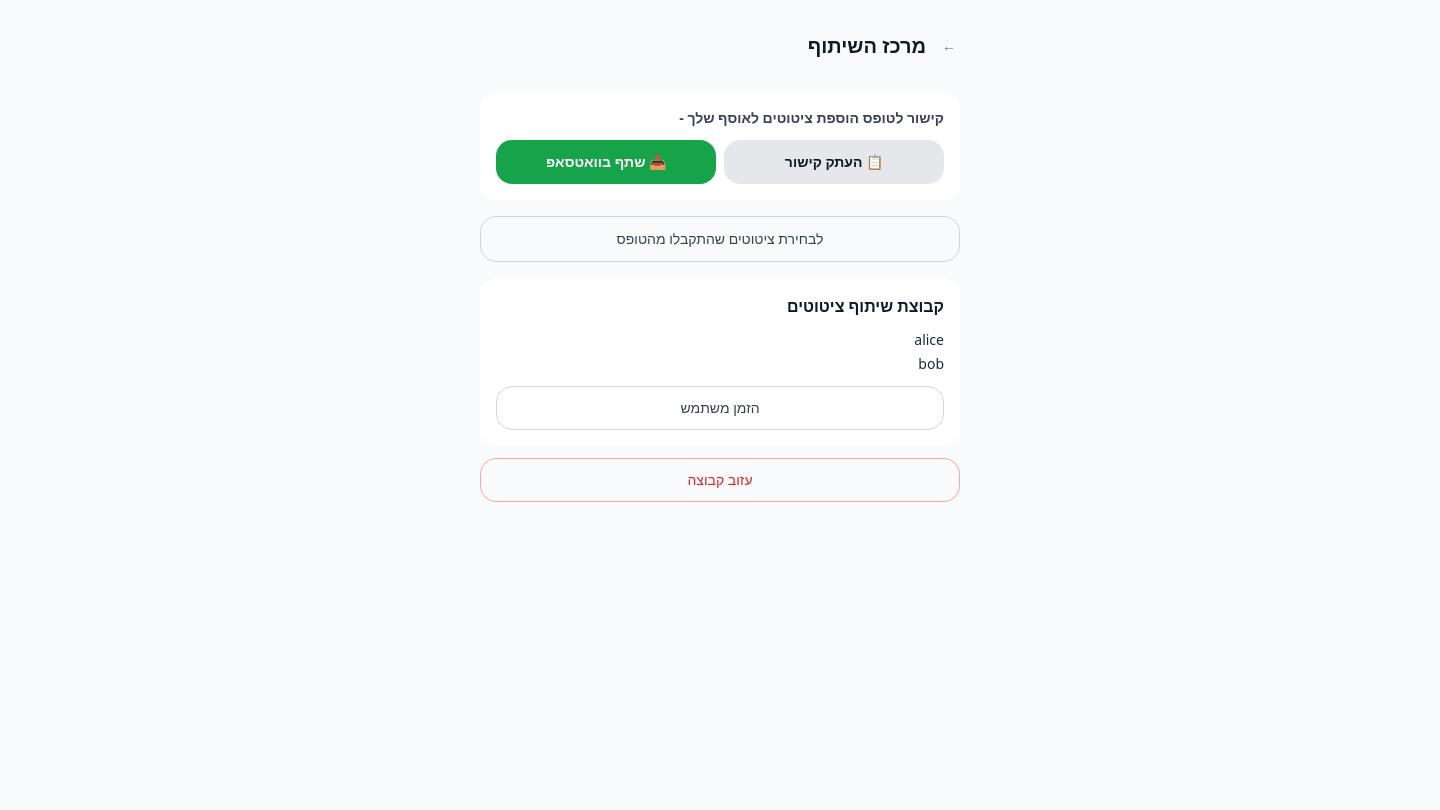
Test case: SharingCenterScreen — leave group › shows ConfirmDialog when "עזוב קבוצה" is clicked
Click the button "עזוב קבוצה".
click(720, 480)  # box [480,458,960,502]
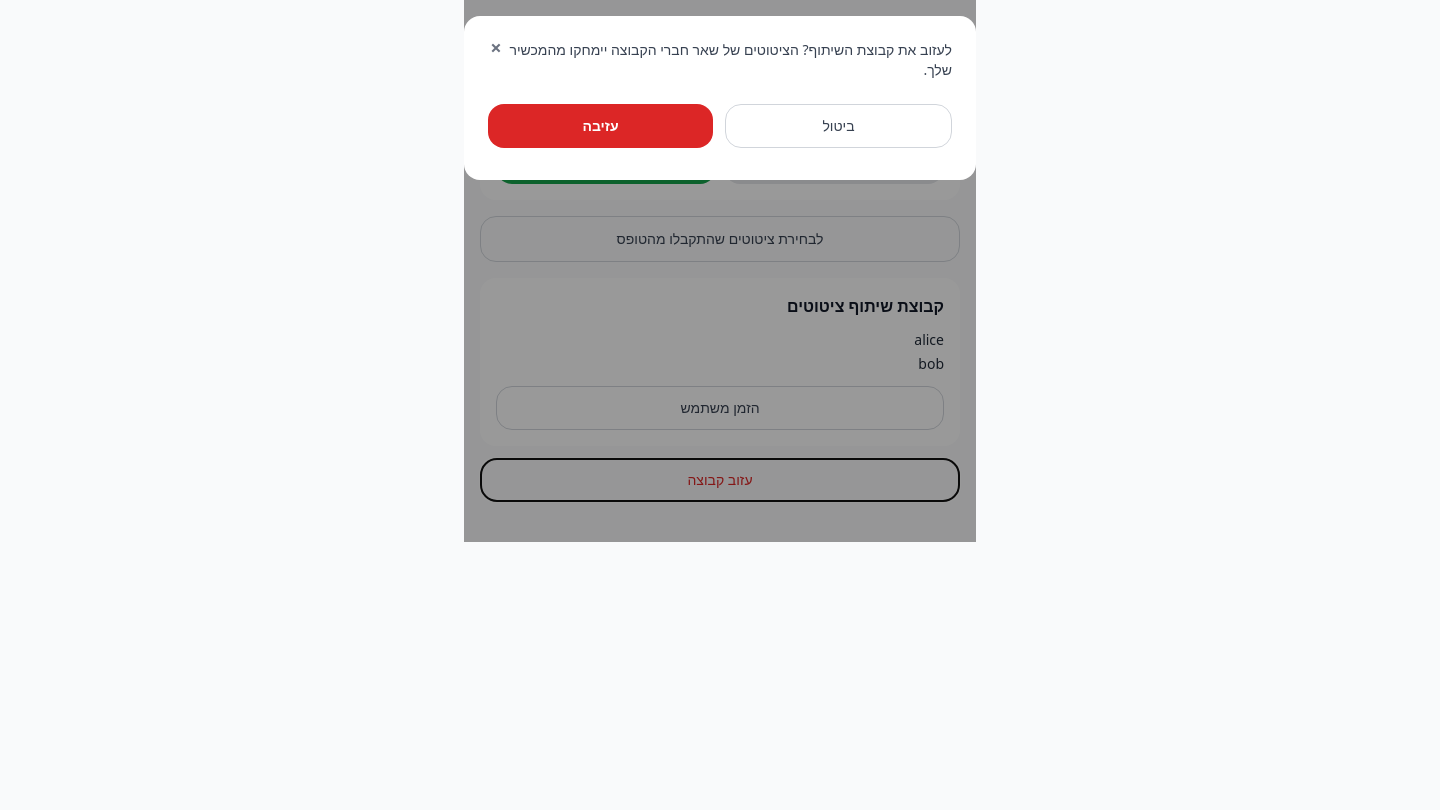
Result: the text "לעזוב את קבוצת השיתוף" is shown at [509,40,952,79]
